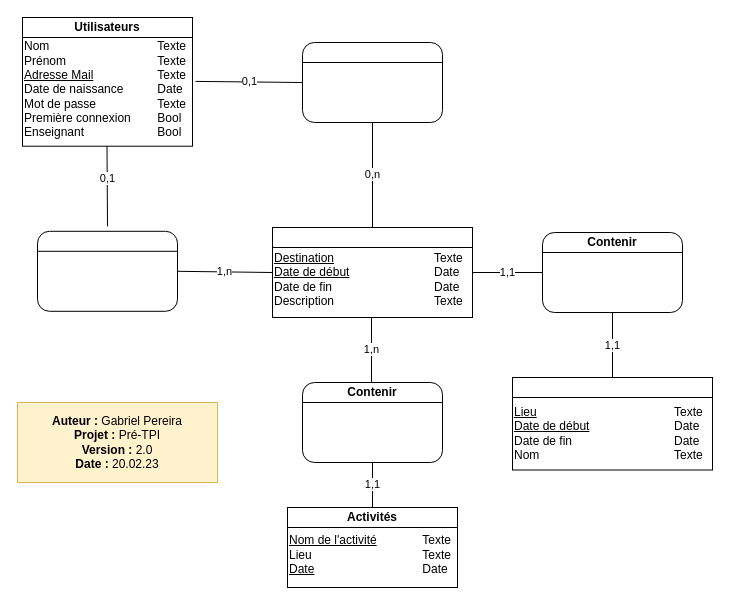
This 730x605 diagram has some shape labels left out. The shapes that lost their labels are listed below. From the top down, each one's centre as x and y in pixels, then its label:
At (x=372, y=82): "Suivre".
At (x=372, y=237): "Voyages".
At (x=107, y=270): "Organiser".
At (x=612, y=387): "Hébergement".
